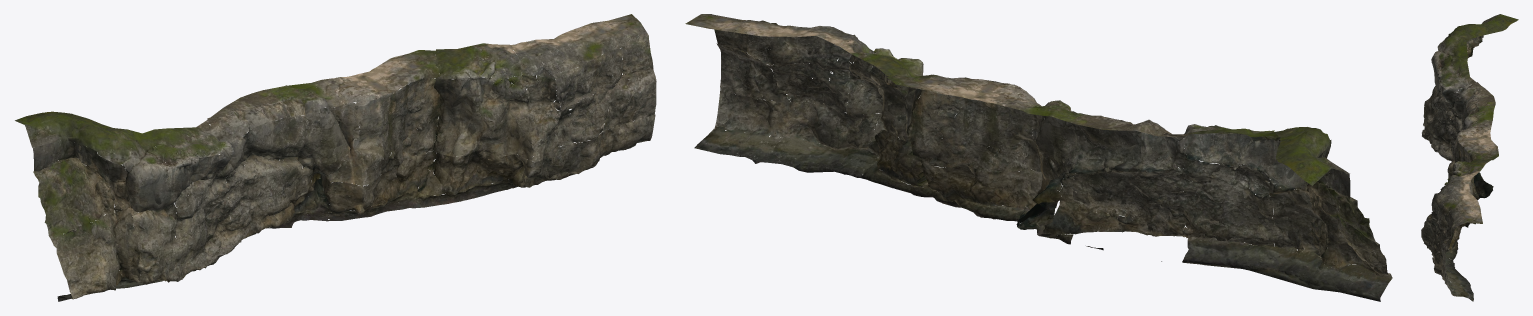
File: sea-cliff.glb
The picture shows the model from 3 angles, left to right: view 1: azimuth 30°, elevation 25°; view 2: azimuth 150°, elevation 25°; view 3: azimuth 270°, elevation 25°; orthographic projection. The views are drawn at different scales.
Parts seen in each view (by area): view 1: LOD0_0, LOD1_0; view 2: LOD0_0, LOD1_0; view 3: LOD0_0, LOD1_0.
Boxes of the visible parts, x1=… form: LOD0_0: x1=17, y1=20, x2=656, y2=301; LOD1_0: x1=15, y1=14, x2=656, y2=301; LOD0_0: x1=686, y1=14, x2=1392, y2=301; LOD1_0: x1=685, y1=14, x2=1392, y2=301; LOD0_0: x1=1421, y1=14, x2=1518, y2=300; LOD1_0: x1=1421, y1=14, x2=1518, y2=301.
Size of the model in its own units: 61.12 by 15.04 by 12.89.
1 material, 1 textured.
